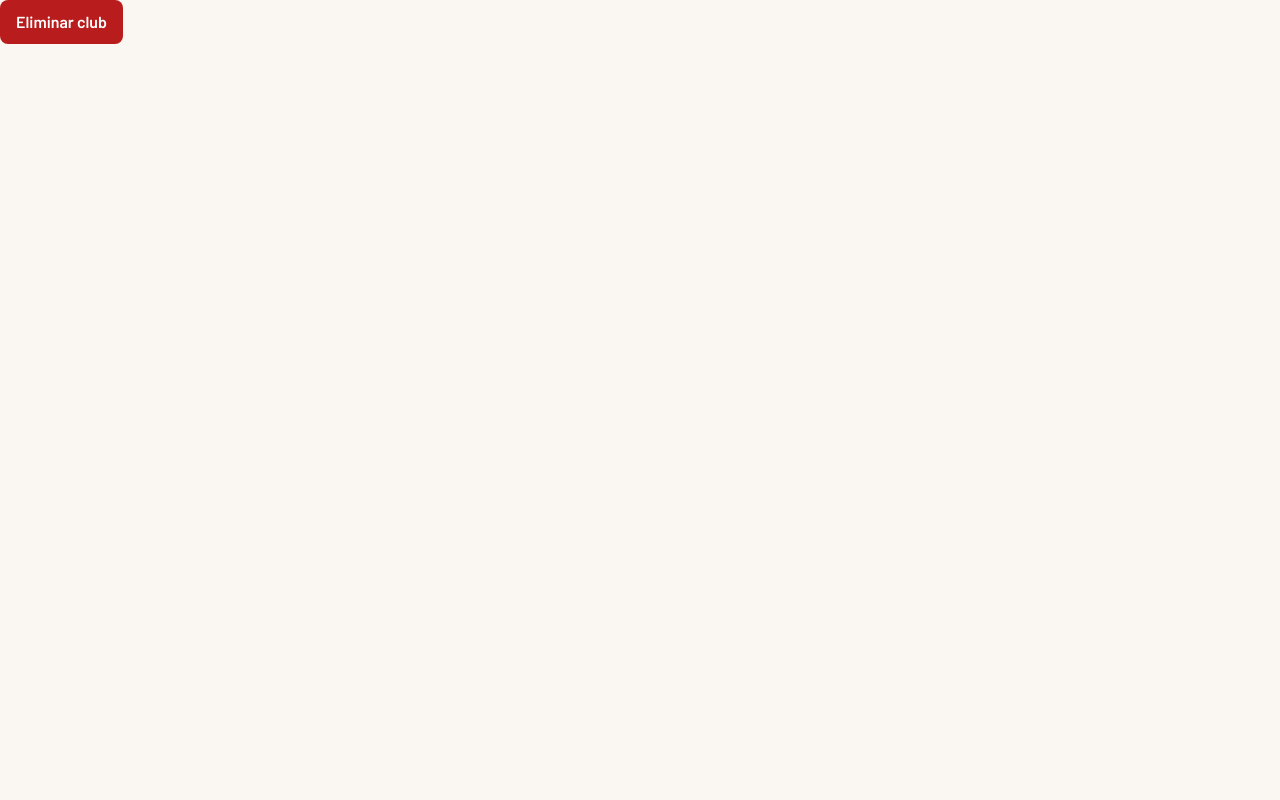
ConfirmDialog en modo 'escribí el nombre' › el botón empieza deshabilitado
Step 1. Click the button "Eliminar club" → (61,22), box [0, 0, 123, 44]
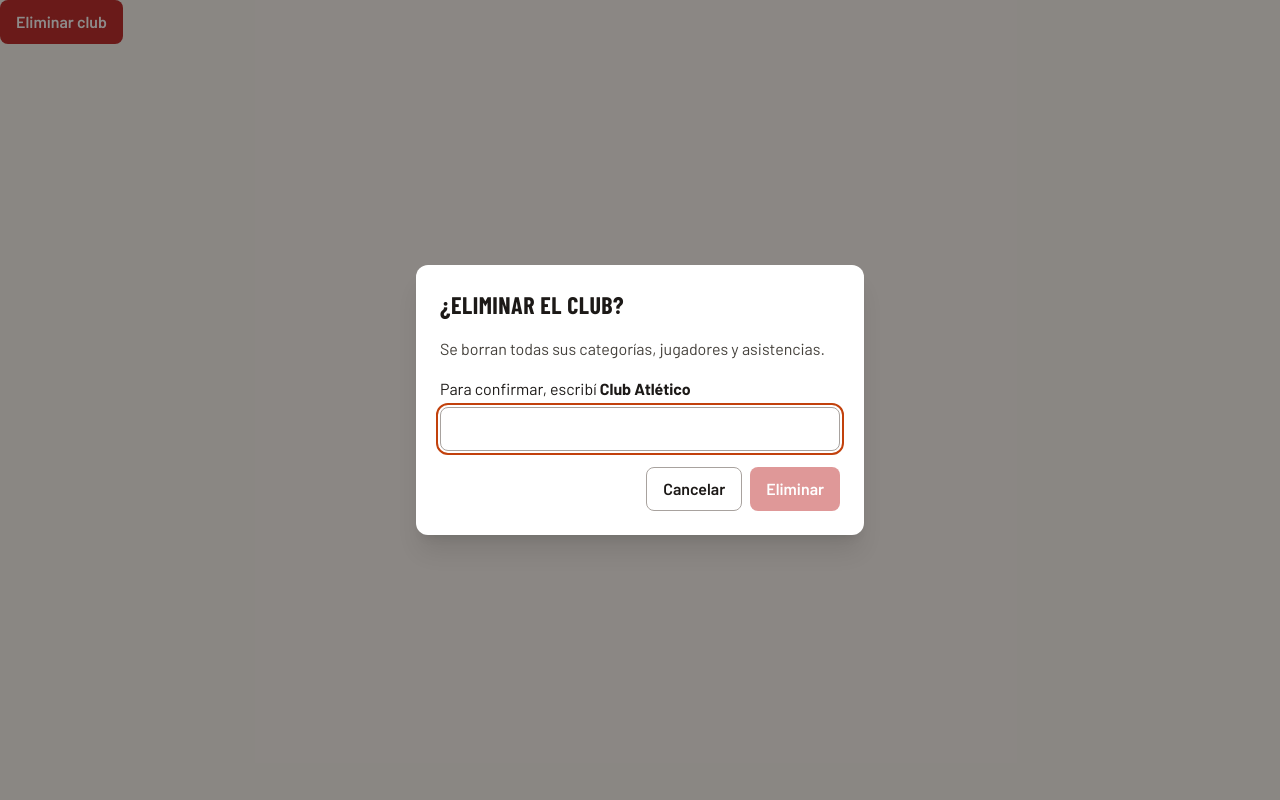
Now the button "Eliminar" is disabled, box [750, 467, 840, 511]
